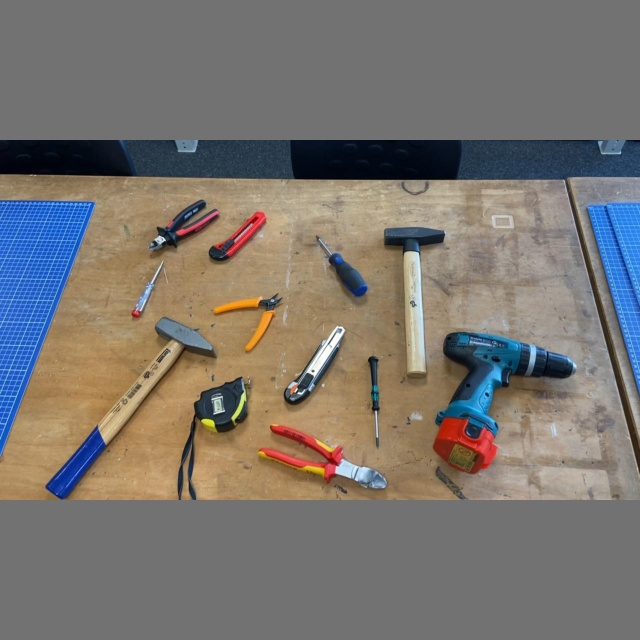drill: (432, 330, 578, 476)
screwdriver: (315, 234, 369, 298), (130, 258, 166, 319), (366, 355, 382, 450)
